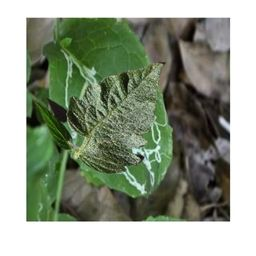liriomyza: (133, 112, 169, 186), (60, 49, 97, 108), (119, 166, 147, 196)
